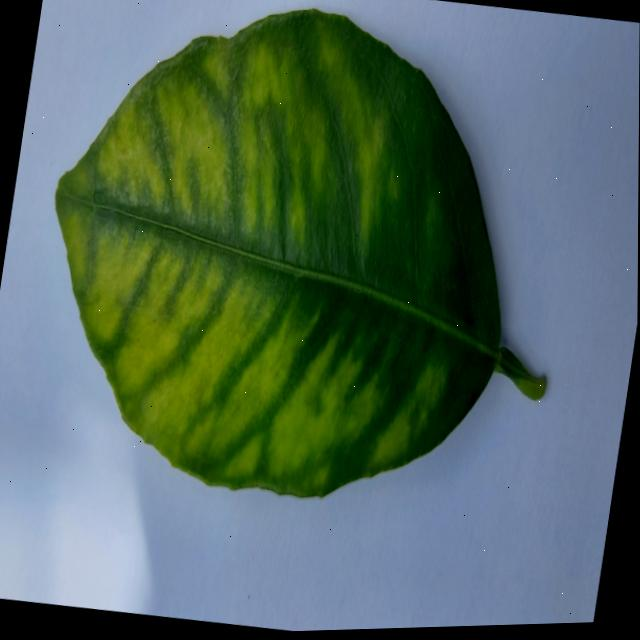greening: (55, 10, 545, 497)
